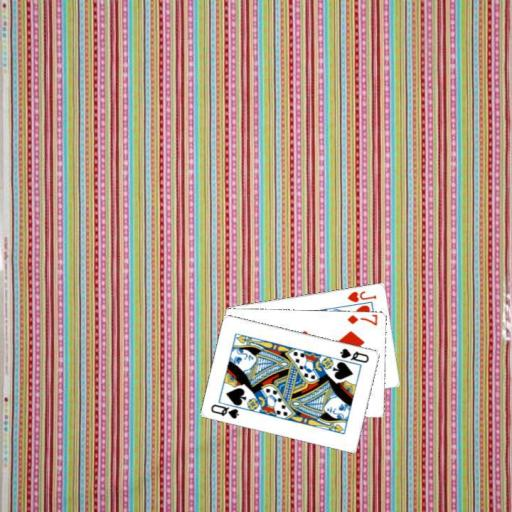7D: (344, 313, 379, 327)
JH: (344, 287, 378, 304)
QS: (337, 345, 371, 364), (208, 401, 240, 420)
